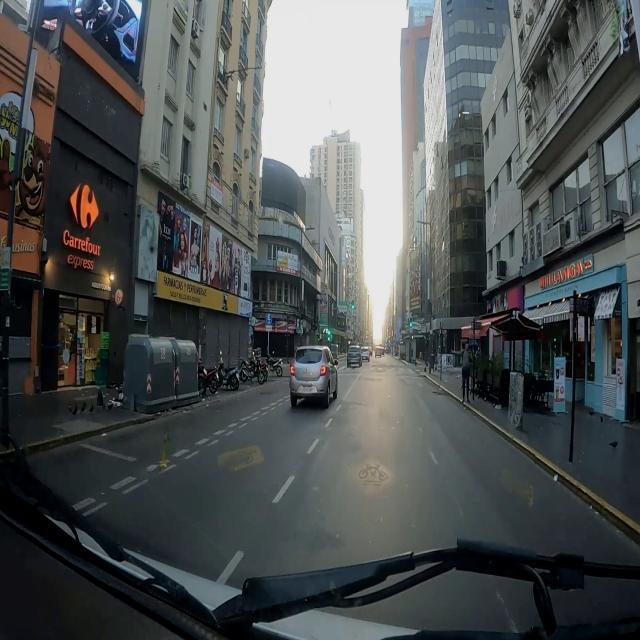car: (290, 346, 337, 407), (347, 345, 362, 367), (362, 348, 369, 362), (375, 347, 383, 357)
motorcycle: (240, 350, 268, 388), (217, 352, 239, 390), (198, 360, 217, 395), (268, 358, 282, 376)
